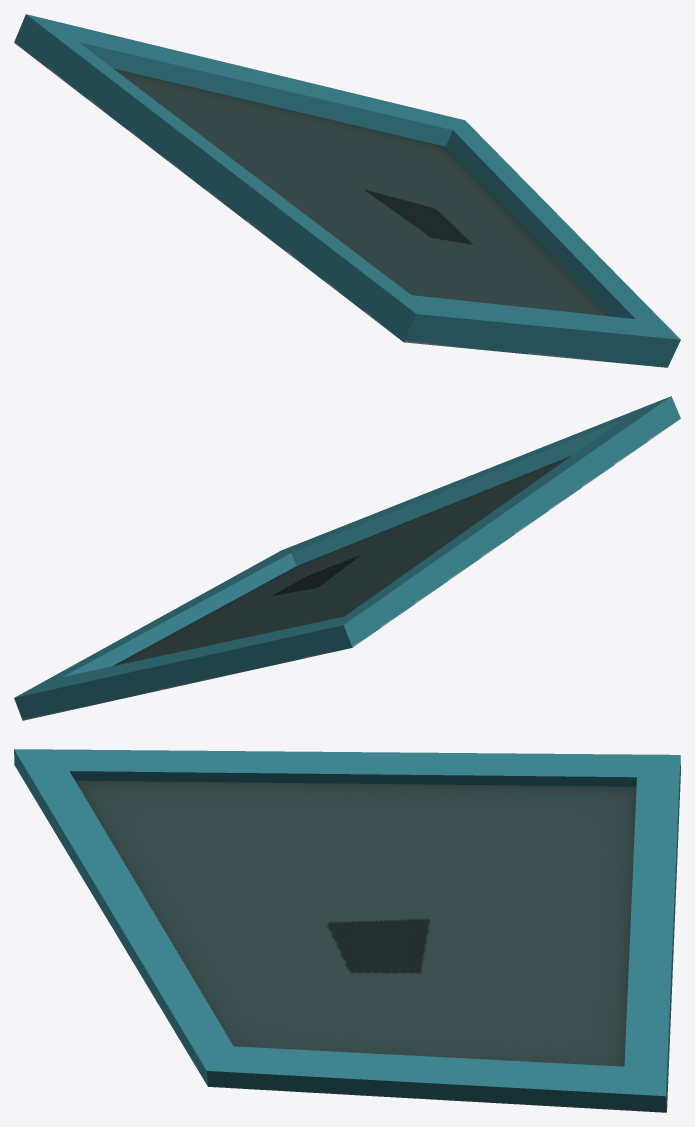
The model's file is EXP_2_Console_Door_Right.fbx.
3 renders of one model, top to bottom at view 1: azimuth 30°, elevation 25°; view 2: azimuth 150°, elevation 25°; view 3: azimuth 270°, elevation 25°, orthographic. The views are drawn at different scales.
Visible parts, largest first — view 1: Console_Door_Right; view 2: Console_Door_Right; view 3: Console_Door_Right.
Boxes of the visible parts, bbox=[...] form: Console_Door_Right: bbox=[14, 14, 680, 367]; Console_Door_Right: bbox=[14, 396, 680, 720]; Console_Door_Right: bbox=[14, 749, 680, 1112].
Size of the model in its own units: 572 by 276 by 879.
